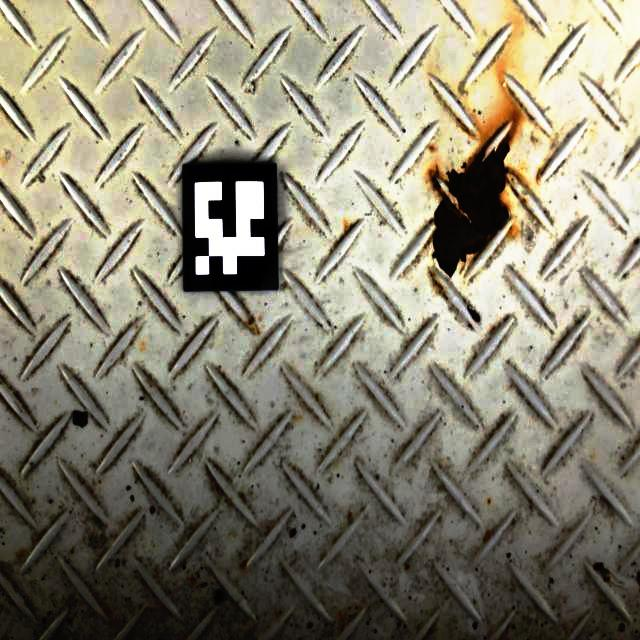Corrosion: (431, 120, 523, 279), (429, 269, 445, 295), (245, 318, 255, 327)
